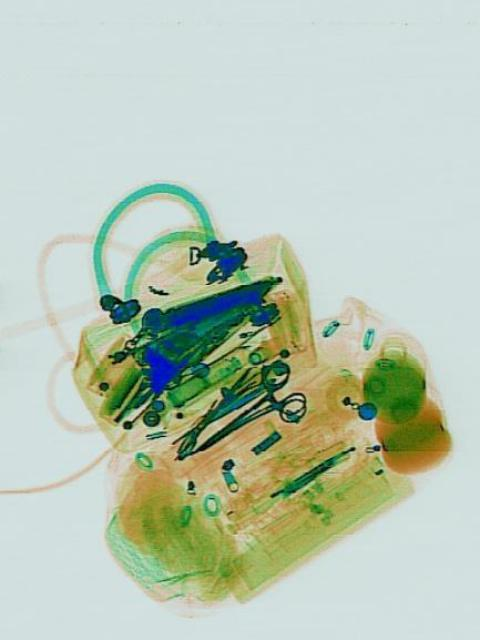Scissors: (178, 350, 310, 482)
